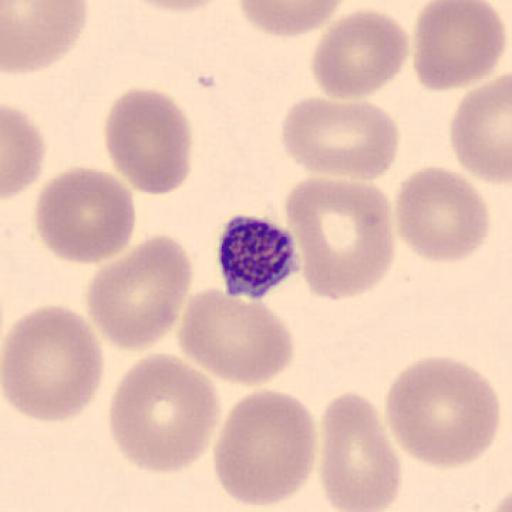Platelet: (215, 211, 303, 301)
RBC: (282, 176, 396, 301), (108, 350, 222, 474), (384, 354, 502, 470), (85, 234, 195, 354), (212, 387, 318, 509), (0, 302, 104, 422), (176, 285, 296, 386), (34, 164, 138, 266), (280, 94, 401, 180), (103, 85, 194, 197), (318, 392, 402, 512), (395, 164, 491, 265), (310, 7, 410, 102), (412, 0, 506, 93), (449, 72, 512, 186), (2, 0, 90, 76), (1, 102, 47, 202), (237, 0, 346, 38), (127, 0, 223, 14)
